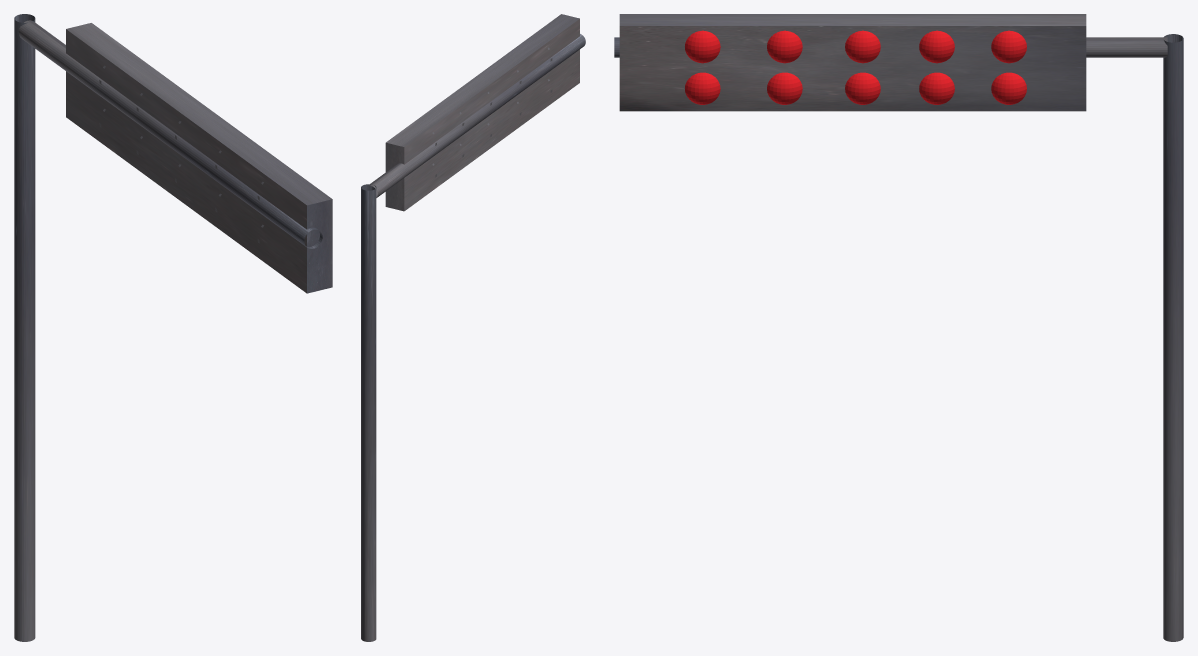
File: start_light.obj
3 views of the same model, side by side, from view 1: azimuth 30°, elevation 25°; view 2: azimuth 150°, elevation 25°; view 3: azimuth 270°, elevation 25° (orthographic). The views are drawn at different scales.
Parts seen in each view (by area): view 1: start_light_Cube.008; view 2: start_light_Cube.008; view 3: start_light_Cube.008.
Part boxes in pixels (x1,y1,x2,y2): start_light_Cube.008: (14,14,332,641); start_light_Cube.008: (361,14,585,641); start_light_Cube.008: (614,14,1183,641).
Bounding box in the file's own units: 0.2197 × 3.43 × 2.84.
1 material, 1 textured.
